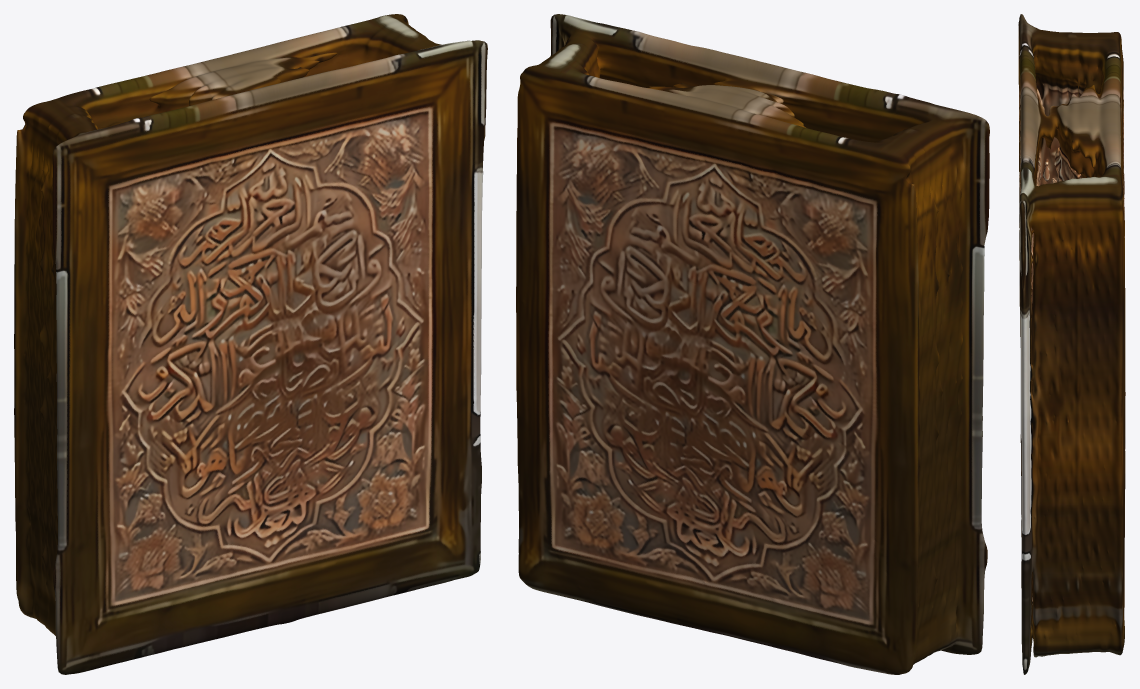
The model's file is kfl-2278.glb.
3 renders of one model, left to right at view 1: azimuth 30°, elevation 25°; view 2: azimuth 150°, elevation 25°; view 3: azimuth 270°, elevation 25°, orthographic. The views are drawn at different scales.
Visible parts, largest first — view 1: kfl-2278; view 2: kfl-2278; view 3: kfl-2278.
Part boxes in pixels (left/top/right/bottom): kfl-2278: left=14, top=14, right=487, bottom=674; kfl-2278: left=516, top=14, right=989, bottom=674; kfl-2278: left=1018, top=14, right=1125, bottom=674.
Bounding box in the file's own units: 0.8376 × 0.9967 × 0.1986.
1 material, 1 textured.
